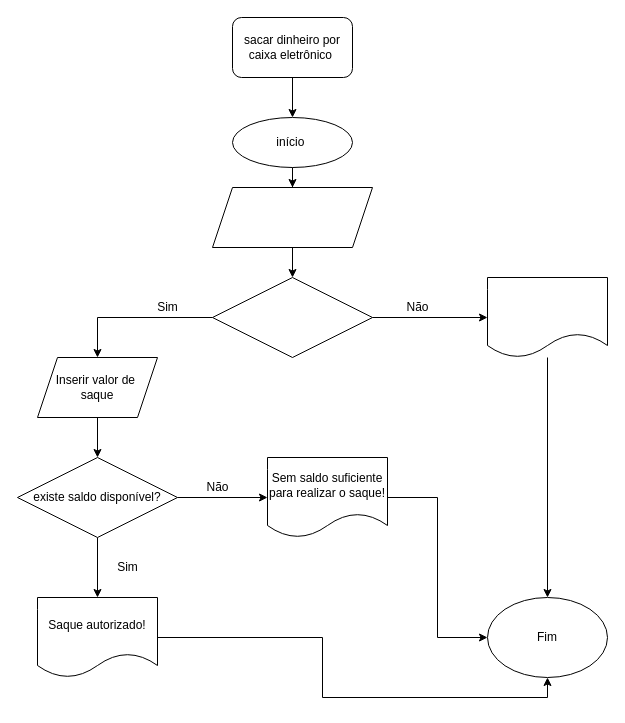
Image size: 625x723. Some labels were removed from this diagram. Each missing label, with the centre of its shape:
"Agência e Conta Inexistente" belongs at point 547,317.
"dados de agência e conta corrente" belongs at point 292,217.
"verificação se dados existem" belongs at point 292,317.
